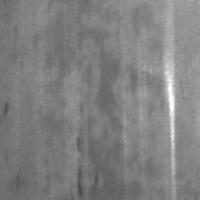scratches: (164, 36, 179, 199)
